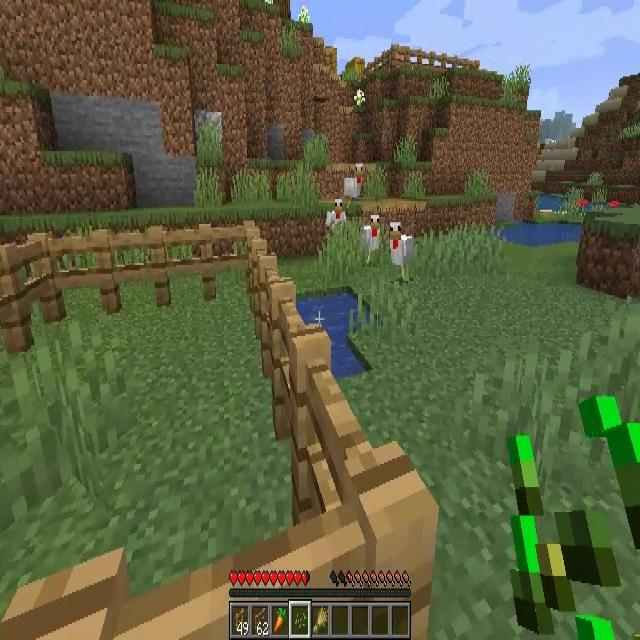duck: (389, 220, 414, 281), (362, 217, 381, 265), (326, 200, 348, 236), (344, 166, 364, 199)
